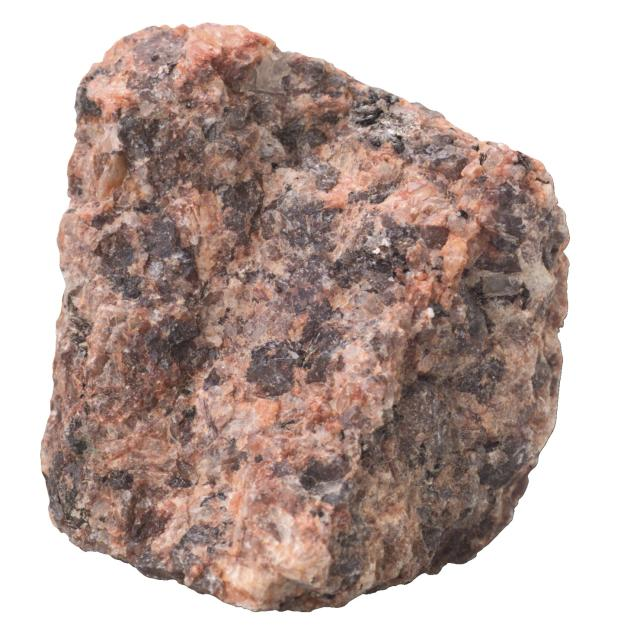Igneous: (53, 17, 562, 624)
